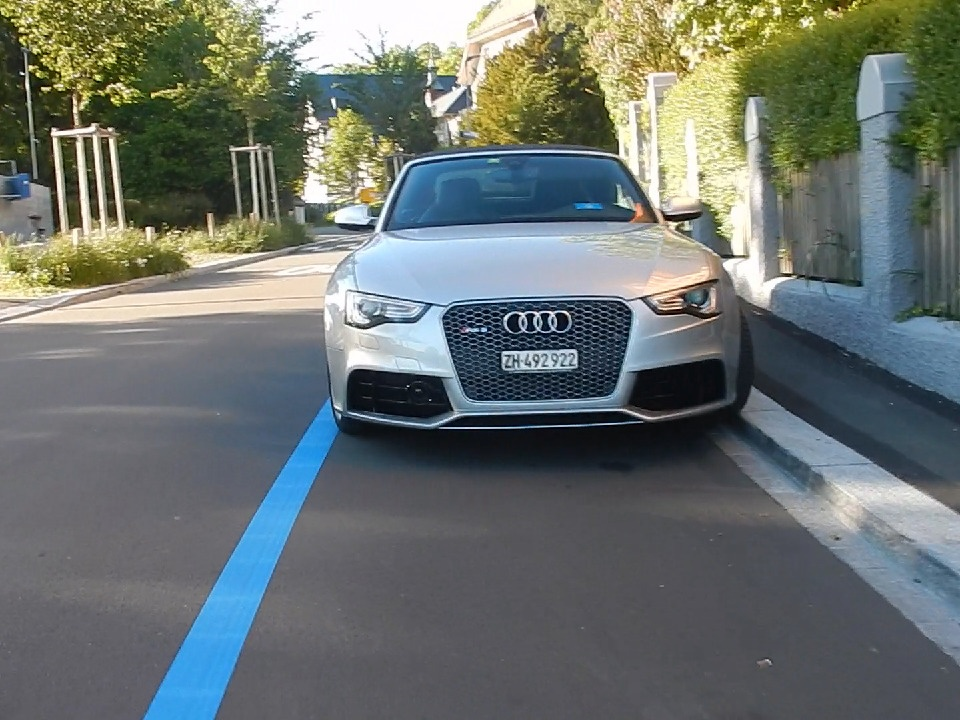car: (306, 138, 771, 463)
